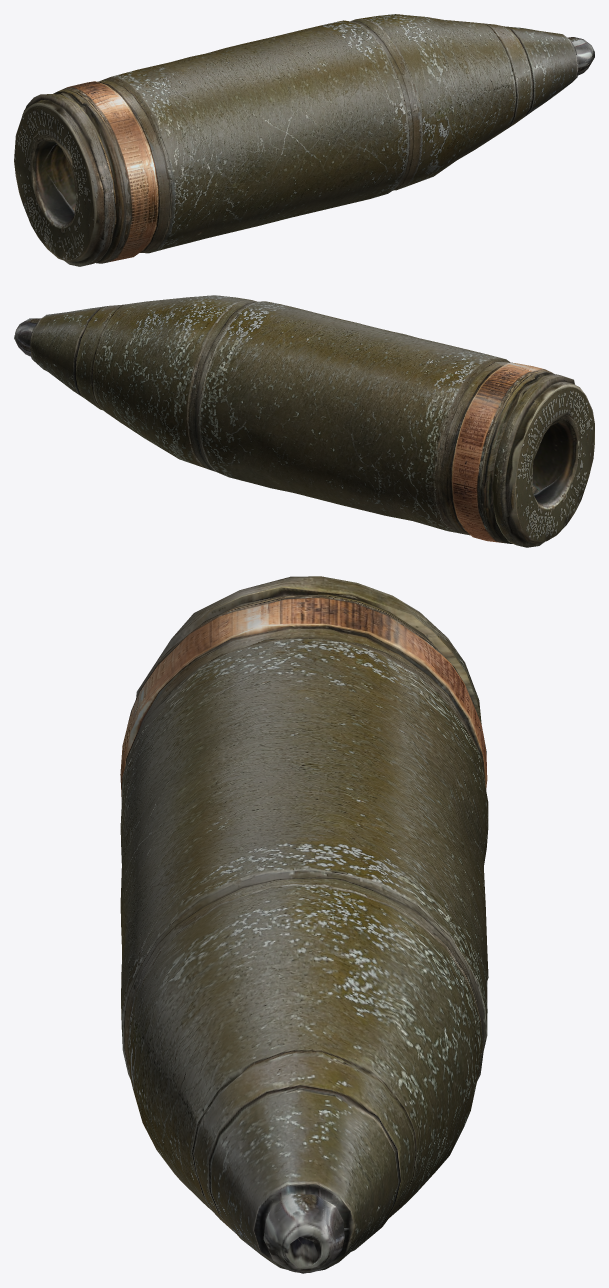
Rendered from BK_Shell40.fbx.
3 renders of one model, top to bottom at view 1: azimuth 30°, elevation 25°; view 2: azimuth 150°, elevation 25°; view 3: azimuth 270°, elevation 25°, orthographic. The views are drawn at different scales.
Visible parts, largest first — view 1: texture_mapping; view 2: texture_mapping; view 3: texture_mapping.
Part boxes in pixels (x1,y1,x2,y2): texture_mapping: (14, 14, 594, 266); texture_mapping: (14, 295, 594, 547); texture_mapping: (120, 576, 488, 1273).
Bounding box in the file's own units: 1 × 0.2967 × 0.2922.
1 material, 1 textured.
